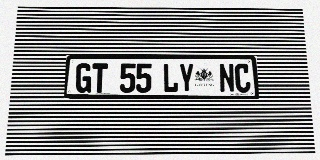5: (120, 63, 136, 93), (136, 63, 152, 93)
C: (234, 64, 251, 93)
G: (75, 63, 92, 93)
L: (163, 63, 178, 93)
N: (219, 64, 235, 93)
T: (91, 63, 108, 93)
Y: (178, 63, 194, 93)
